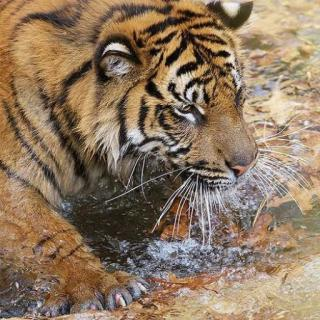Tiger: (5, 0, 263, 300)
